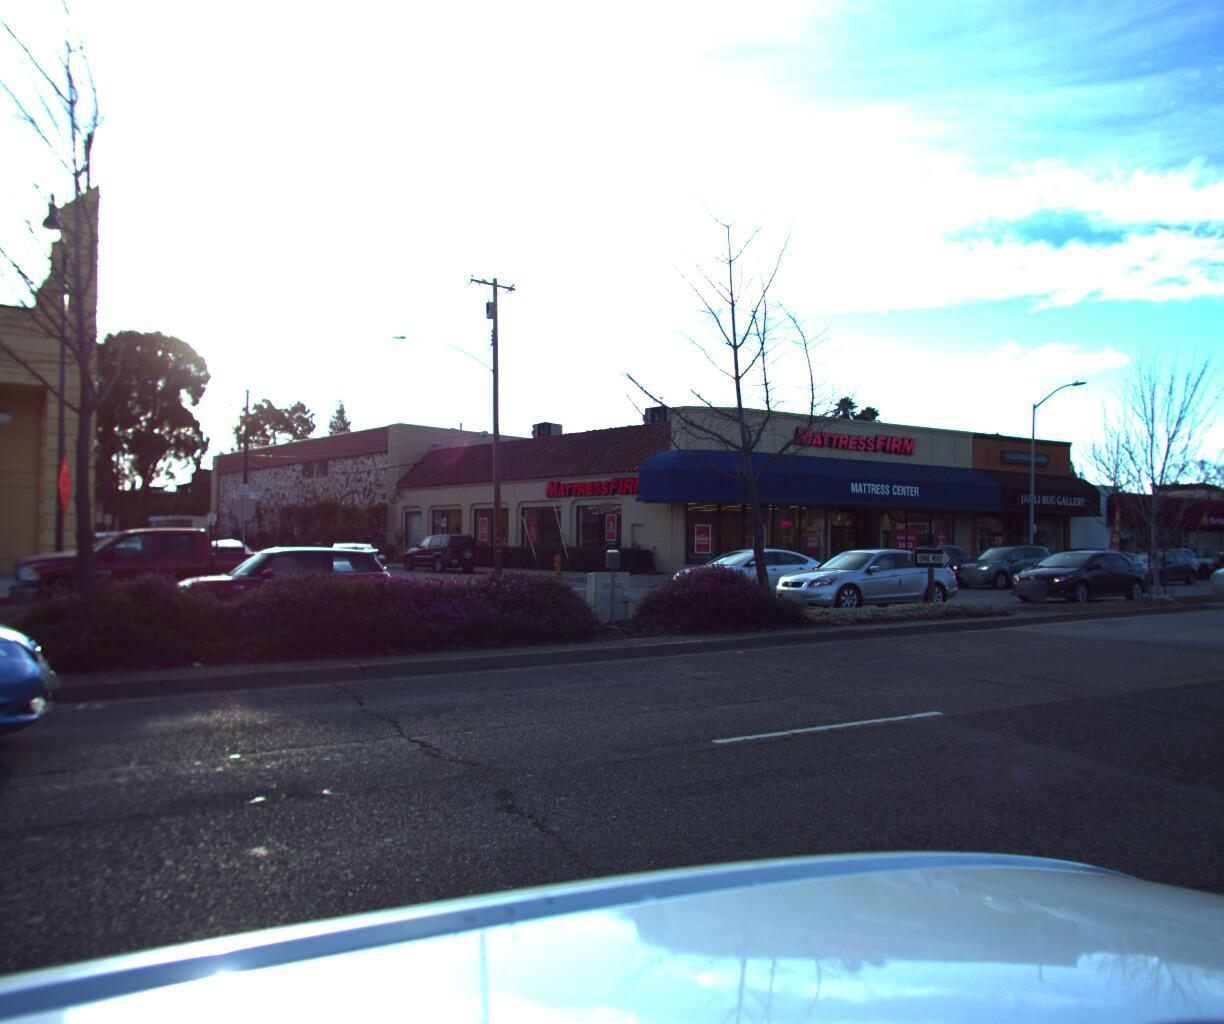car: (0, 498, 80, 922), (7, 513, 307, 621), (160, 538, 406, 653), (761, 534, 965, 612), (647, 540, 827, 604), (996, 539, 1151, 599), (942, 539, 1065, 585), (1110, 540, 1210, 581), (396, 528, 488, 570), (318, 537, 380, 593), (1113, 539, 1206, 575), (1198, 543, 1224, 590)
